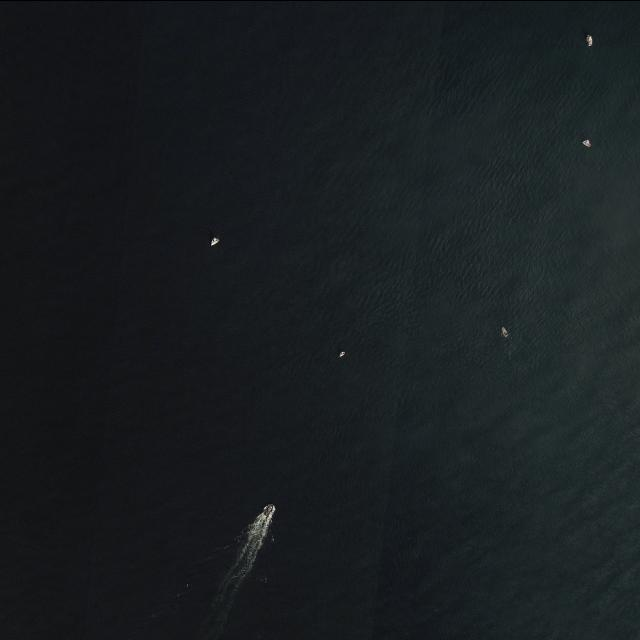ship: (263, 502, 274, 516), (210, 236, 220, 246), (586, 34, 594, 46), (581, 138, 591, 146), (501, 326, 509, 336), (338, 349, 346, 356)
